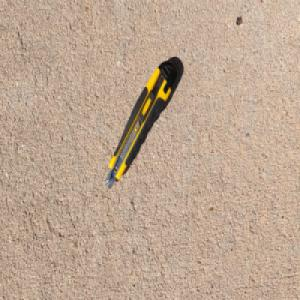Cutter: (104, 58, 178, 190)
